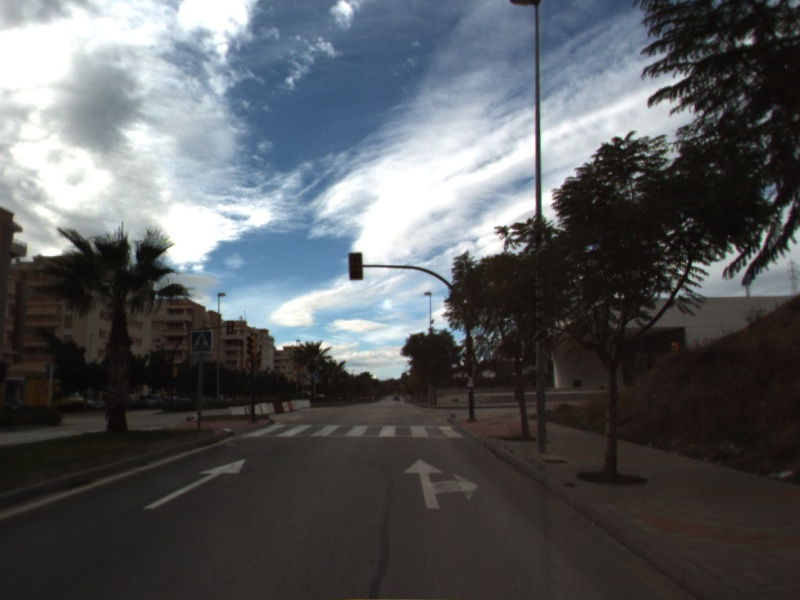STRAIGHT: (142, 457, 248, 511)
STRAIGHT_RIGHT: (402, 456, 480, 511)
